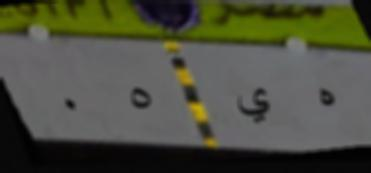0: (54, 84, 86, 120)
5: (124, 82, 156, 120)
haa: (304, 82, 342, 120)
yaa: (234, 77, 278, 126)
